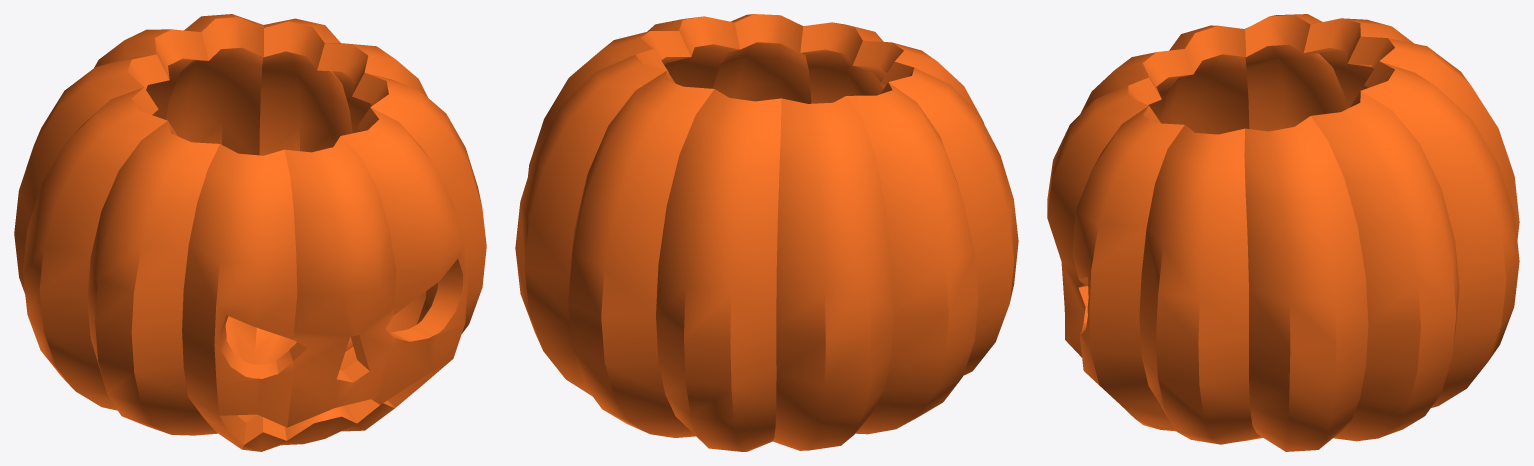
The model's file is jackolantern_small.glb.
3 views of the same model, side by side, from view 1: azimuth 30°, elevation 25°; view 2: azimuth 150°, elevation 25°; view 3: azimuth 270°, elevation 25° (orthographic). The views are drawn at different scales.
Visible parts, largest first — view 1: jackolantern_small; view 2: jackolantern_small; view 3: jackolantern_small.
Part boxes in pixels (x1=…): jackolantern_small: x1=14, y1=14, x2=486, y2=451; jackolantern_small: x1=515, y1=14, x2=1018, y2=451; jackolantern_small: x1=1047, y1=14, x2=1519, y2=451.
Size of the model in its own units: 0.9423 by 0.7499 by 0.9084.
